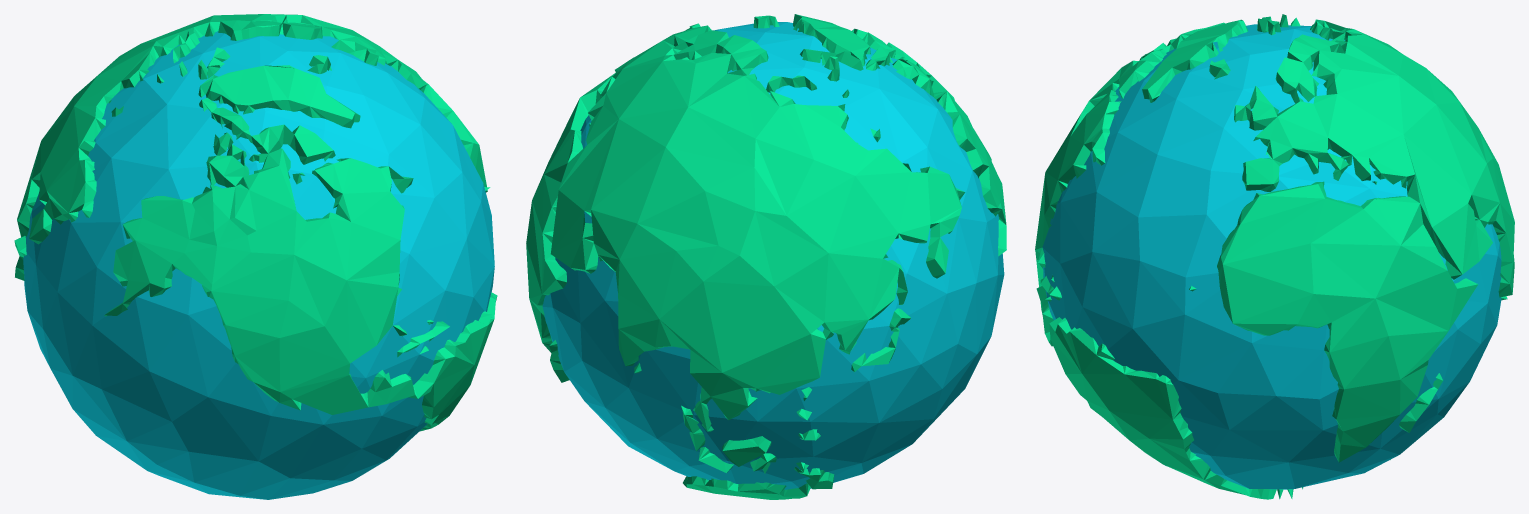
The model's file is earth.gltf.
The picture shows the model from 3 angles, left to right: view 1: azimuth 30°, elevation 25°; view 2: azimuth 150°, elevation 25°; view 3: azimuth 270°, elevation 25°; orthographic projection.
Visible parts, largest first — view 1: low_poly_earth; view 2: low_poly_earth; view 3: low_poly_earth.
Part boxes in pixels (x1,y1,x2,y2): low_poly_earth: [14, 14, 497, 499]; low_poly_earth: [526, 14, 1006, 499]; low_poly_earth: [1035, 14, 1514, 499].
Size of the model in its own units: 1.95 by 2.01 by 1.99.
